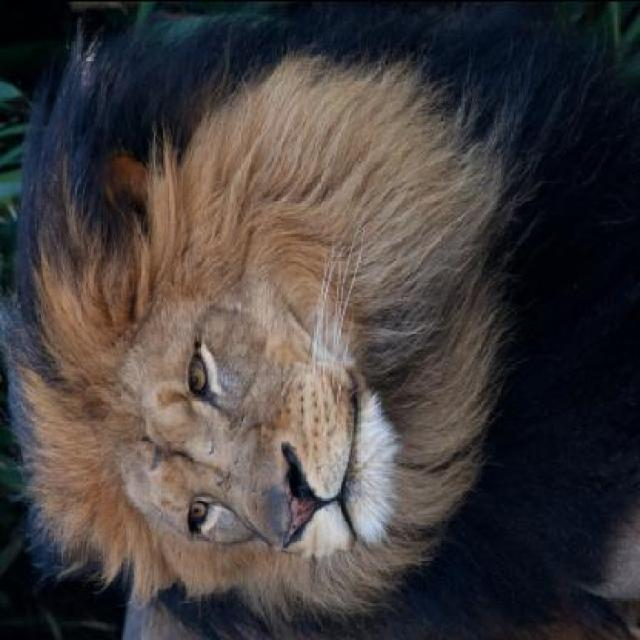Lion: (16, 2, 638, 629)
